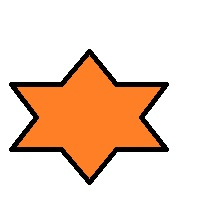star: (9, 48, 169, 185)
